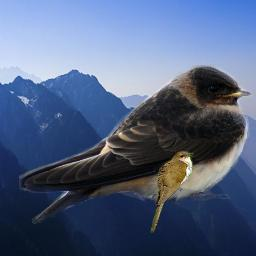Cuckoo: (150, 151, 194, 233)
Swallow: (19, 64, 253, 224)
